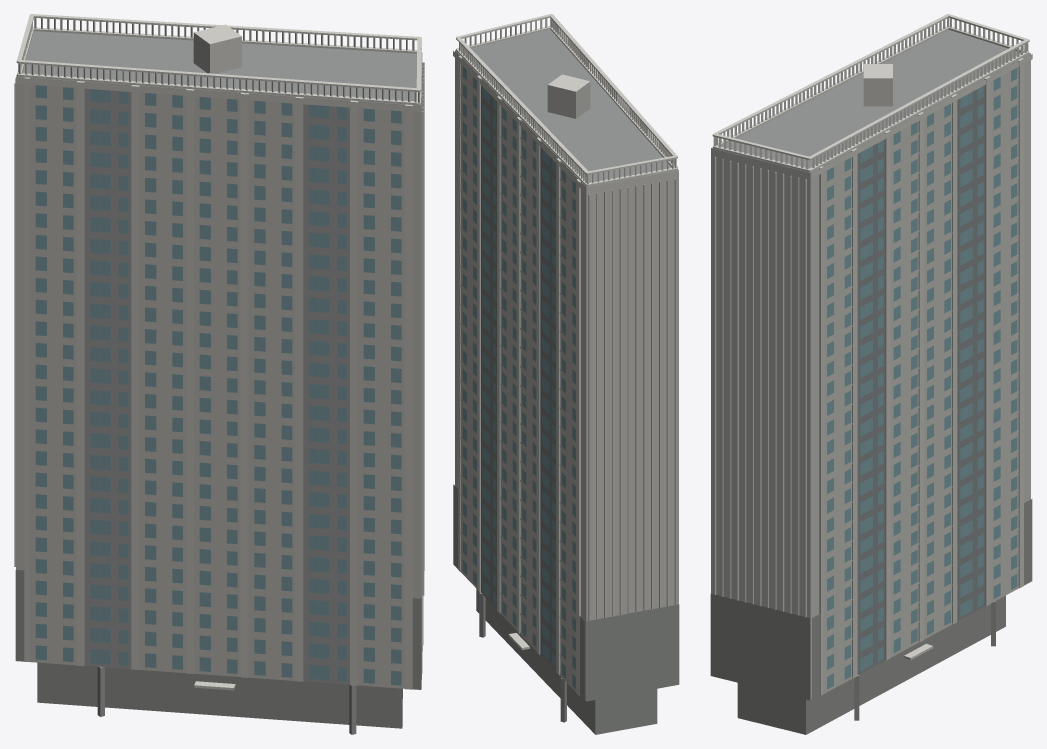
Rendered from maple-xi-111.glb.
The picture shows the model from 3 angles, left to right: view 1: azimuth 30°, elevation 25°; view 2: azimuth 150°, elevation 25°; view 3: azimuth 270°, elevation 25°; orthographic projection. The views are drawn at different scales.
Parts seen in each view (by area): view 1: maple-xi-111; view 2: maple-xi-111; view 3: maple-xi-111.
Boxes of the visible parts, x1,y1,x2,y2 form: maple-xi-111: (14,14,424,734); maple-xi-111: (453,14,679,734); maple-xi-111: (710,14,1032,734).
Size of the model in its own units: 49.63 by 94.56 by 46.18.
